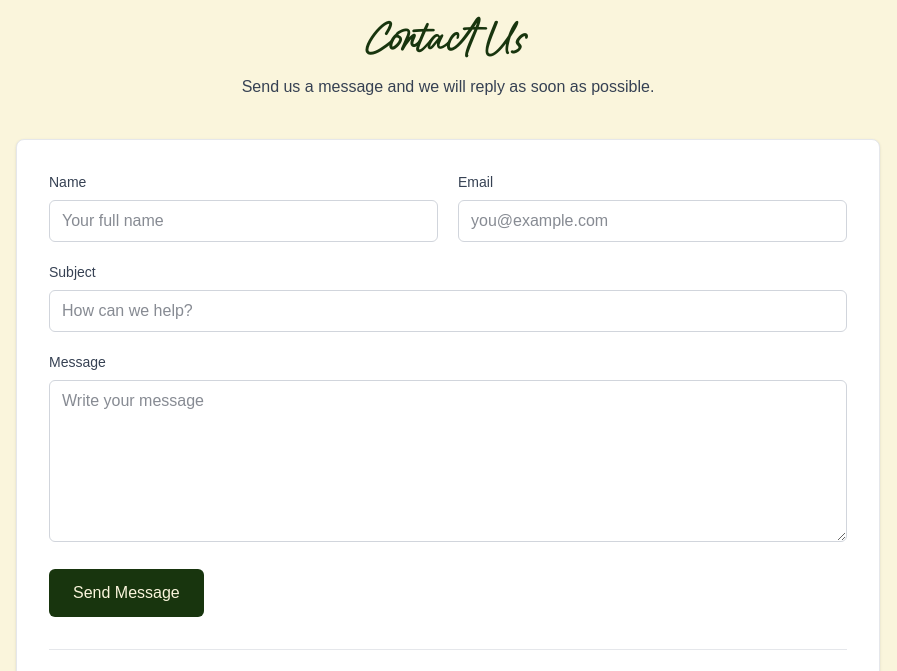
Test case: ContactView › shows error message on failed submission
In the field with placeholder "Your full name": (244, 221) left=49, top=200, right=438, bottom=242, type "Joe"
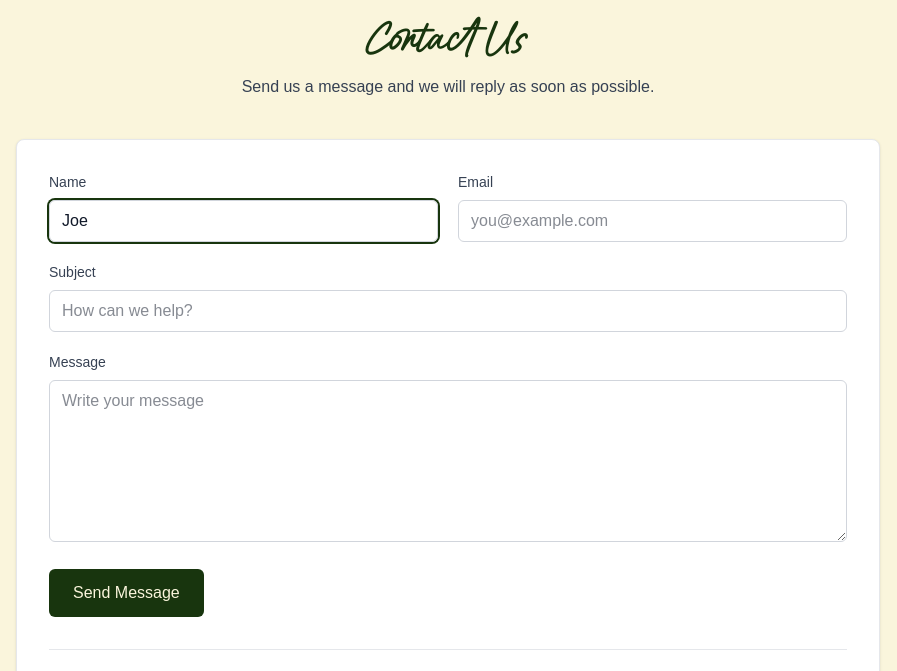
In the field with placeholder "you@example.com": (652, 221) left=458, top=200, right=847, bottom=242, type "joe@test.com"
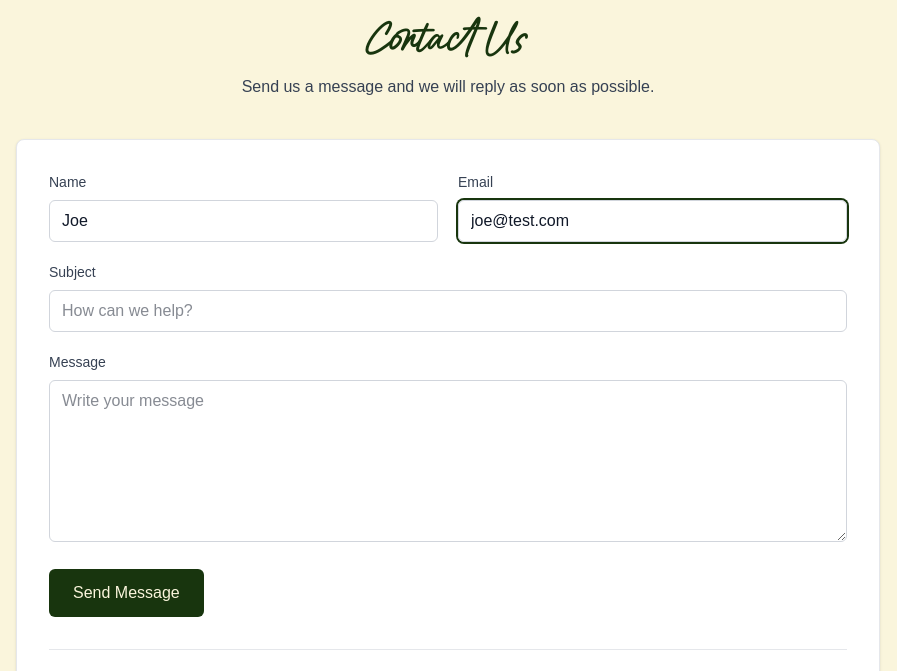
In the field with placeholder "How can we help?": (448, 311) left=49, top=290, right=847, bottom=332, type "Hello"
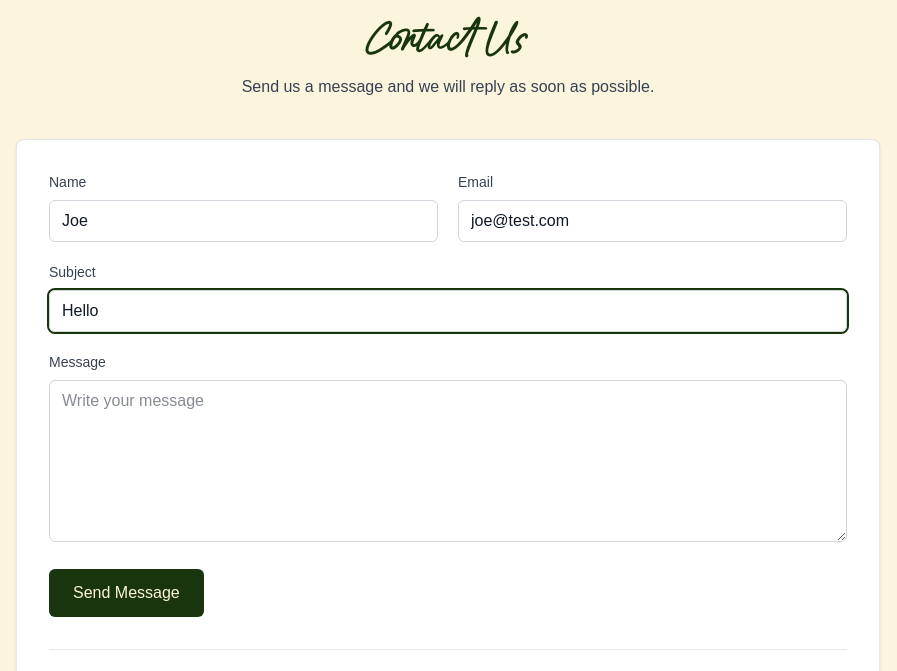
In the text box with placeholder "Write your message": (448, 461) left=49, top=380, right=847, bottom=542, type "Hi there"
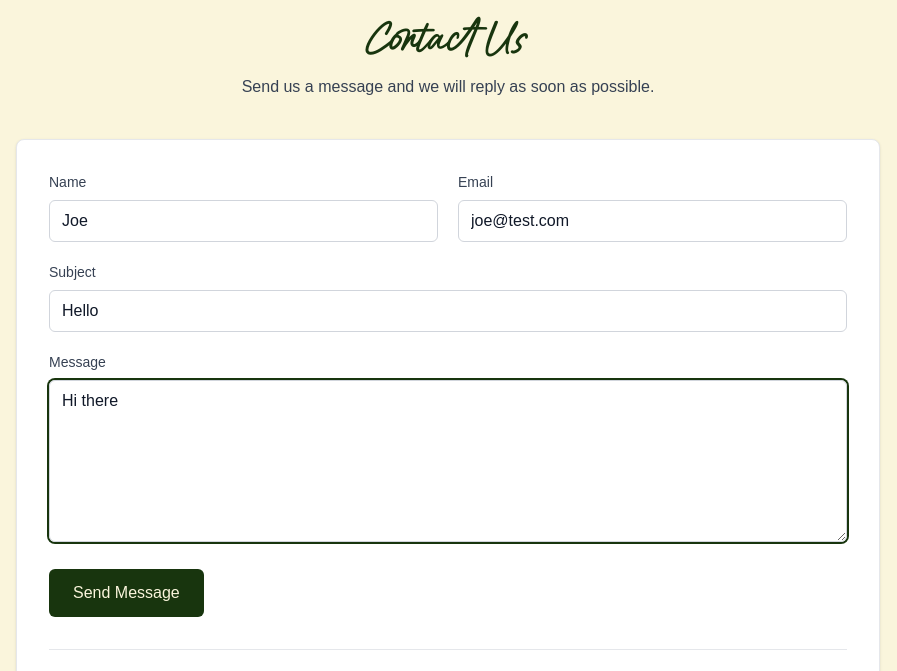
Click the button "Send Message": (126, 593) left=49, top=569, right=204, bottom=617
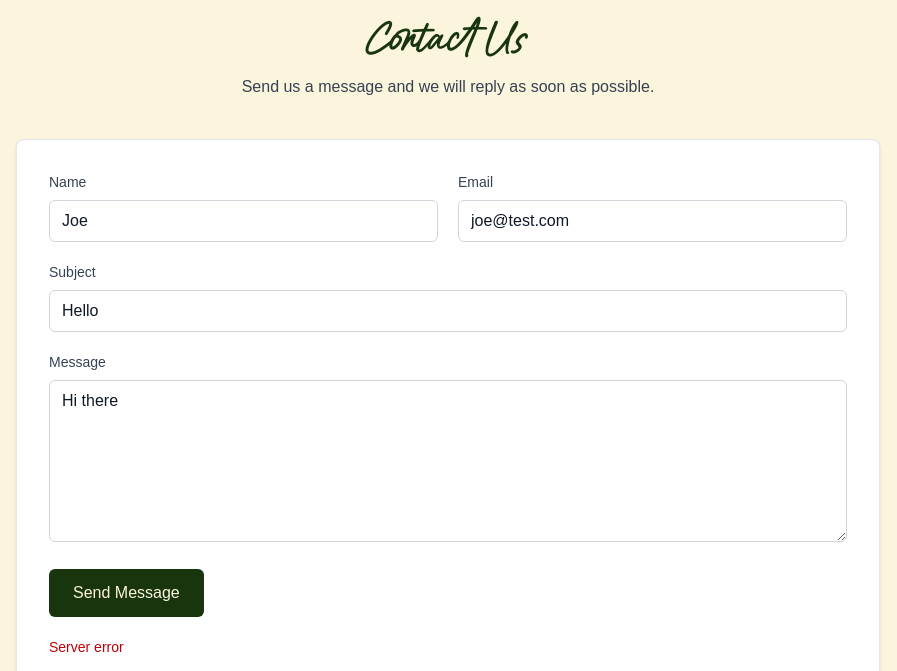
Expected: the message "Server error" is shown, left=49, top=639, right=124, bottom=655
